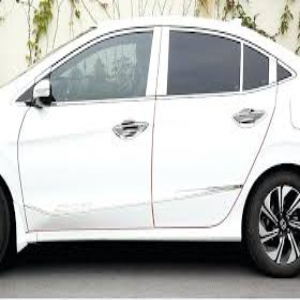tail_lights: (117, 101, 241, 209)
